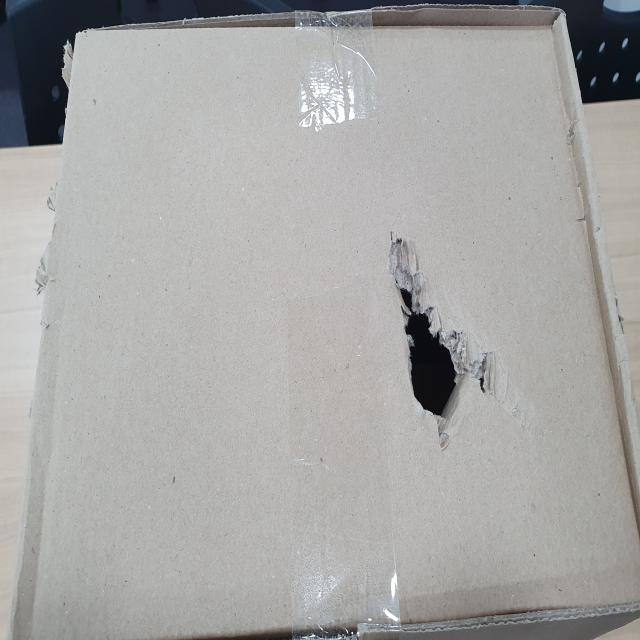hole: (381, 233, 511, 455)
